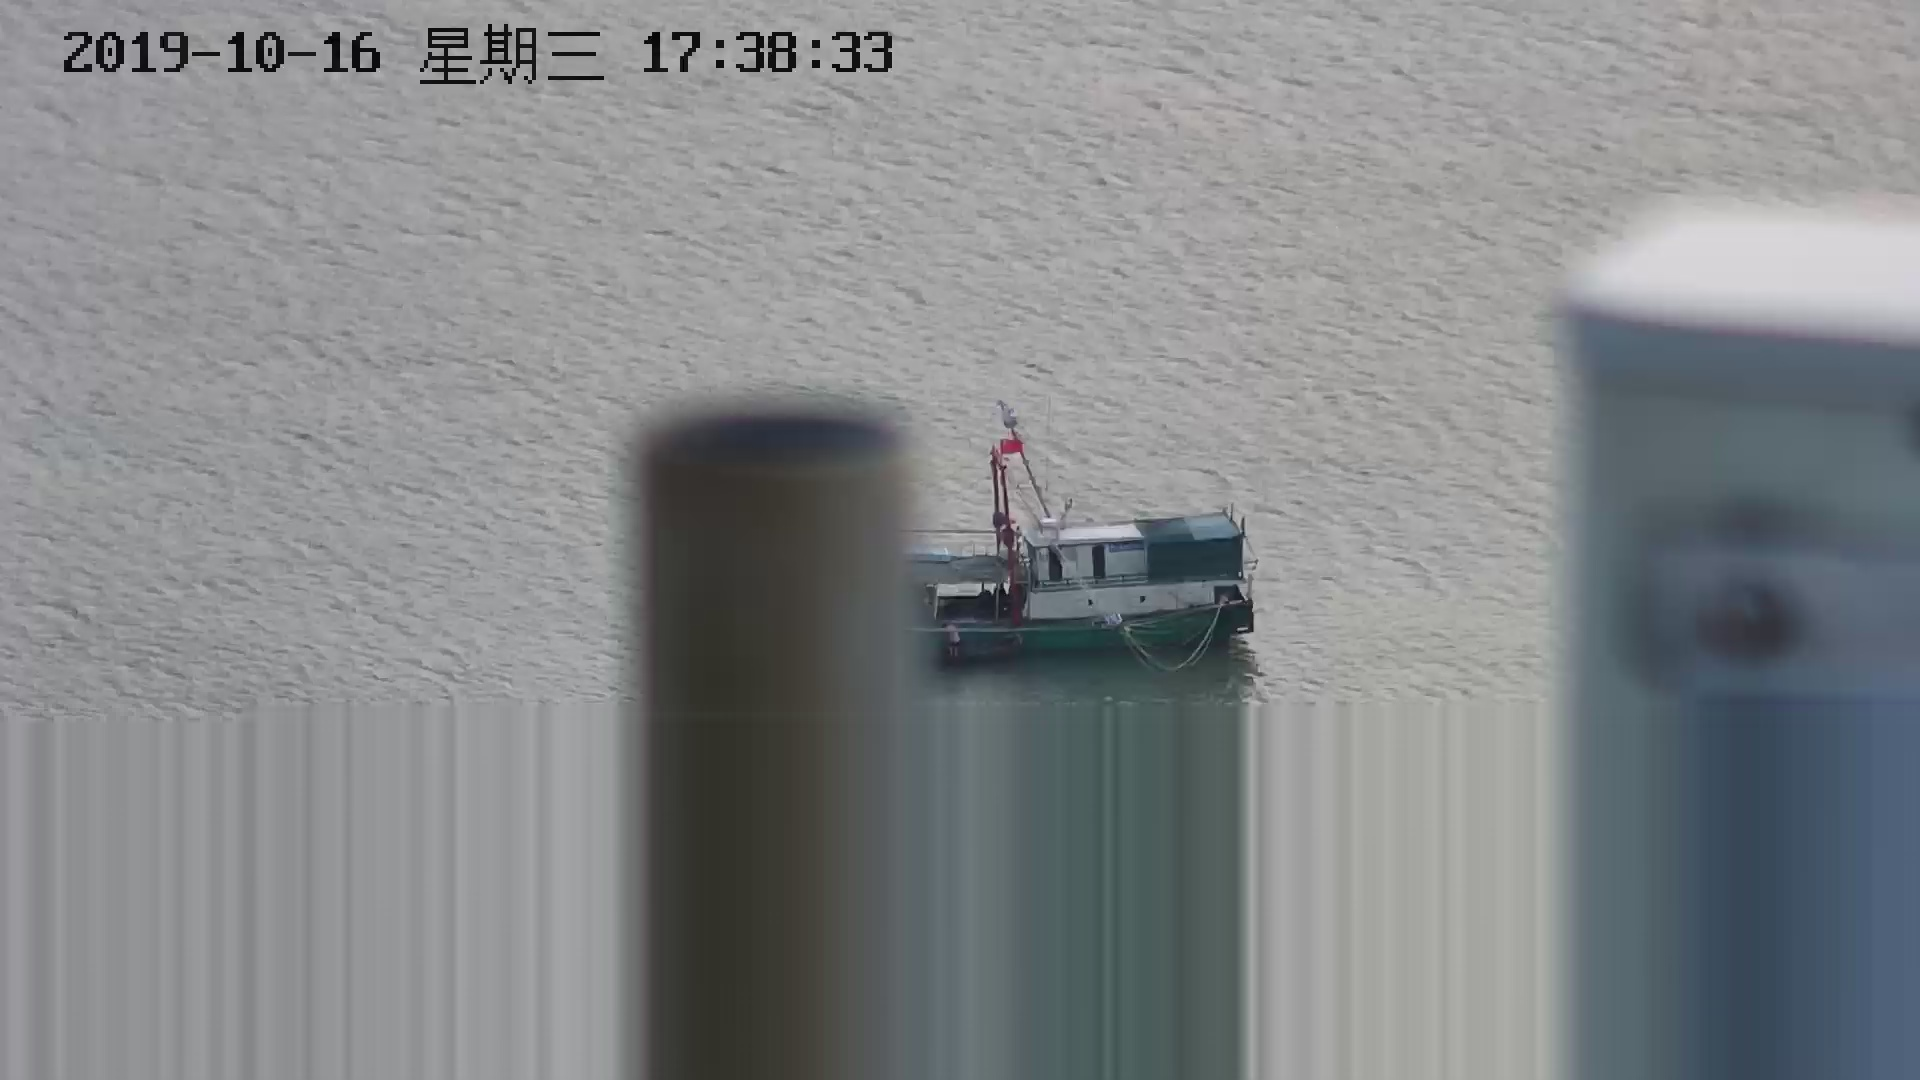ship: (914, 411, 1254, 662)
